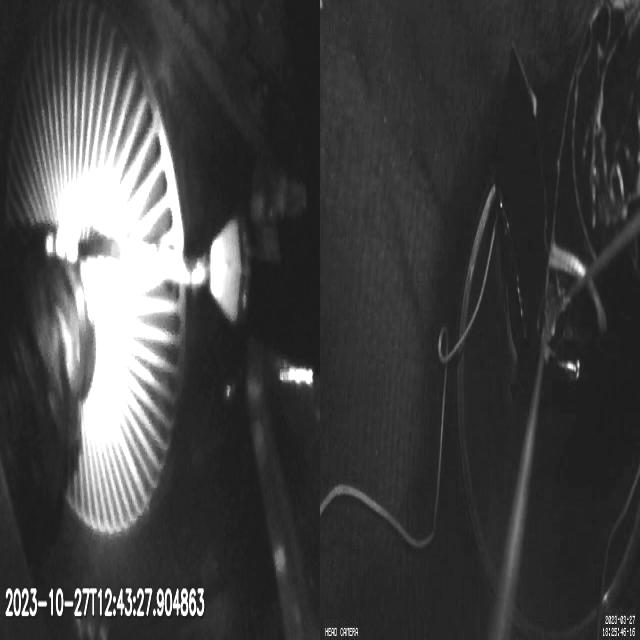head: (210, 219, 288, 326)
white-dots: (45, 220, 79, 266)
